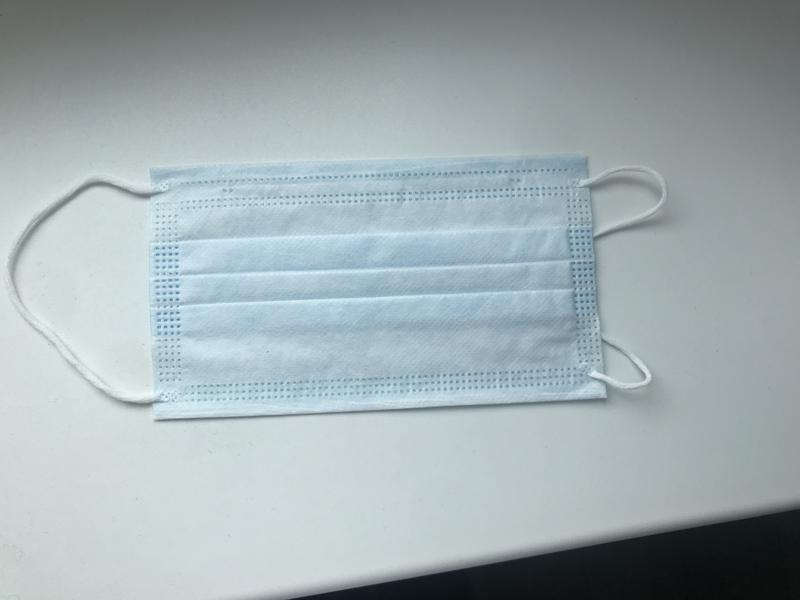medical_mask: (4, 152, 667, 418)
